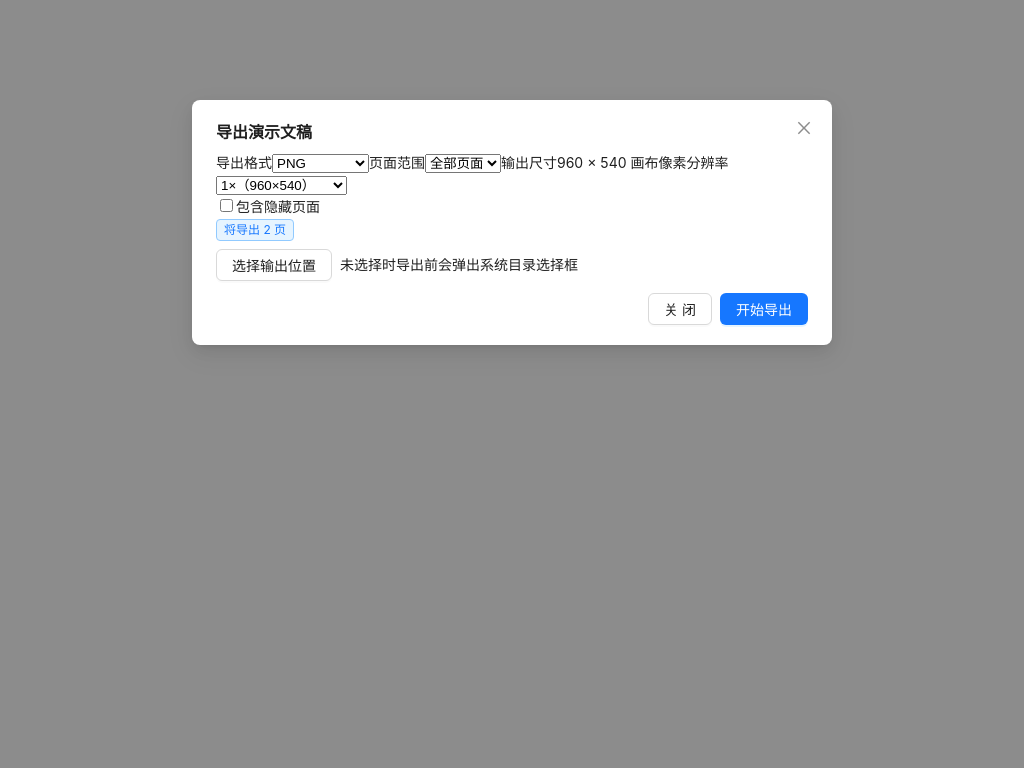
Test: 主进程失败时展示真实原因
The width and height of the screenshot is (1024, 768).
Click the button "开始导出": point(764, 309) [720, 293, 808, 325]
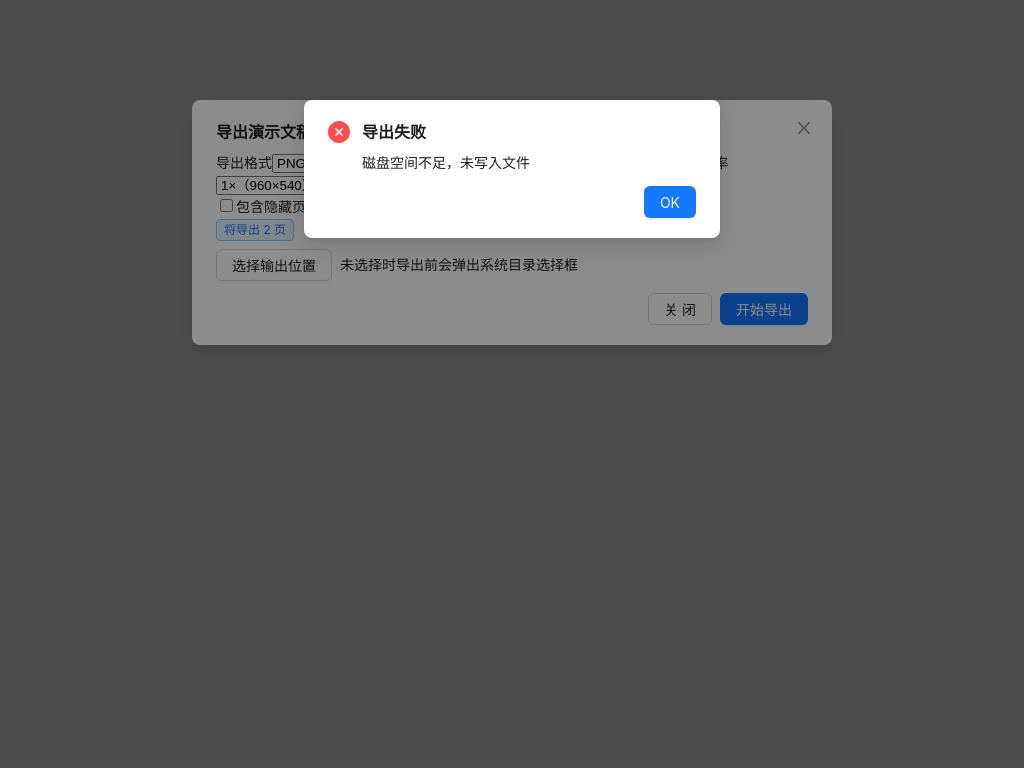
Expected: the text "磁盘空间不足，未写入文件" is shown, [362, 154, 530, 171]
